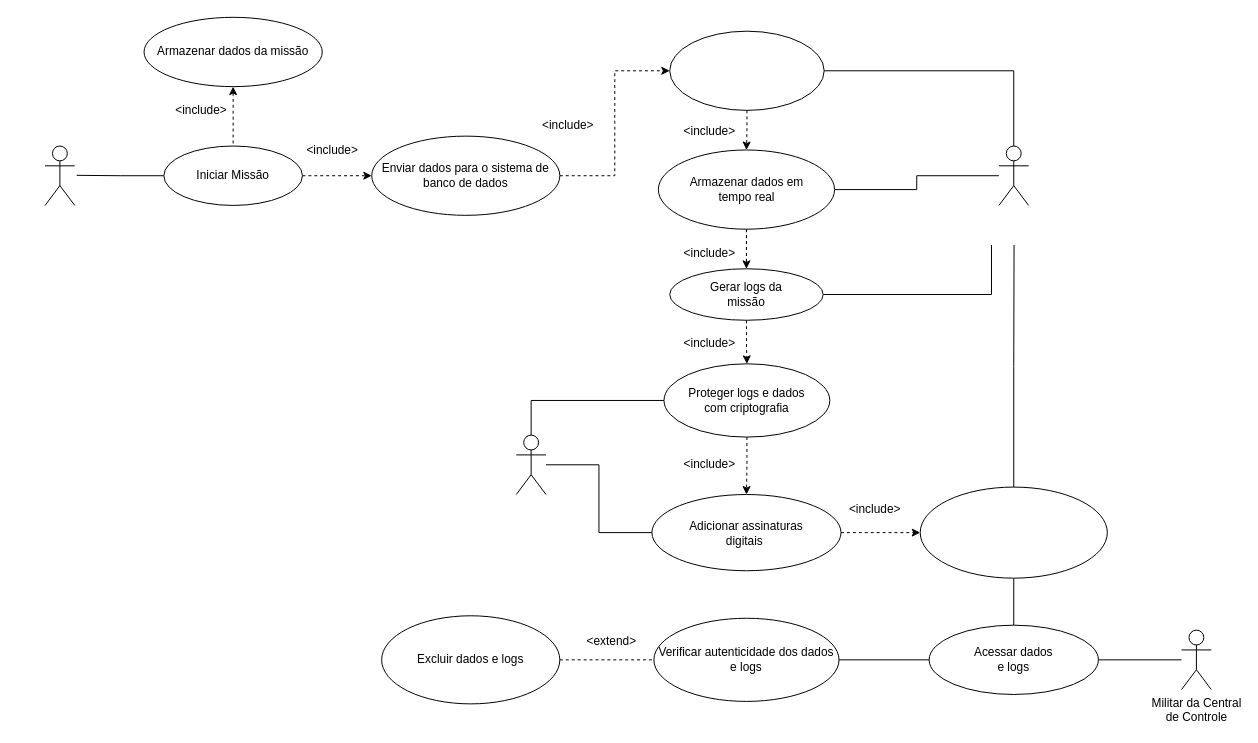
Image size: 1258x743. Some labels were removed from this diagram. The centre of each missing label's shape, as x and y in pixels:
"Armazenar logs e dados criptografados" belongs at point 1013,532.
"Militar Operador do Drone" belongs at point 59,175.
"Receber dados em tempo real" belongs at point 746,70.
"Sistema de Auditoria" belongs at point 530,464.
"Sistema de Banco de Dados" belongs at point 1013,175.
